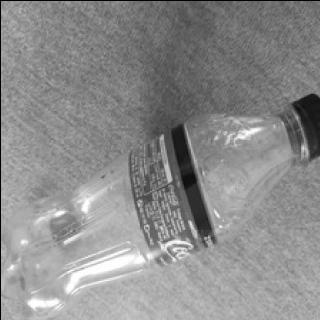plastic_bottles: (2, 82, 320, 318)
